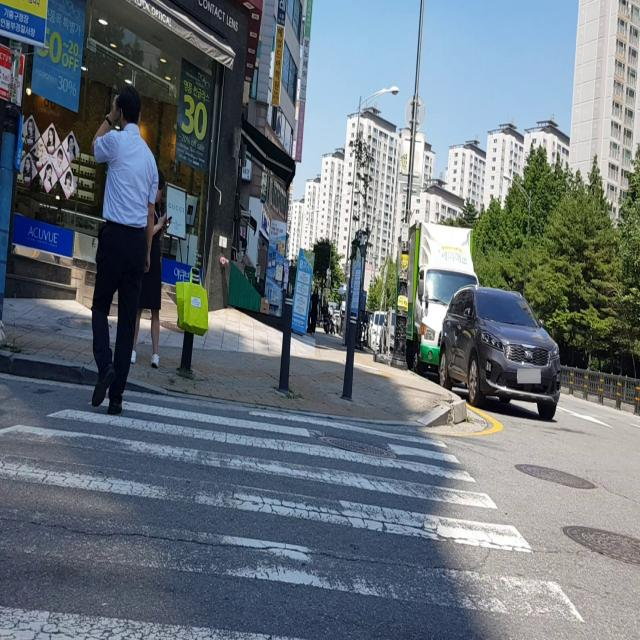횡단보도: (0, 393, 587, 639)
